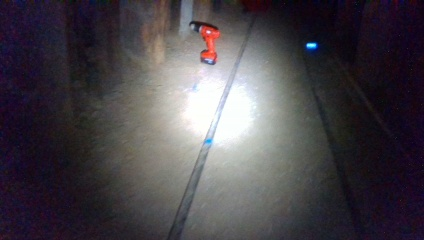drill: (189, 22, 221, 67)
